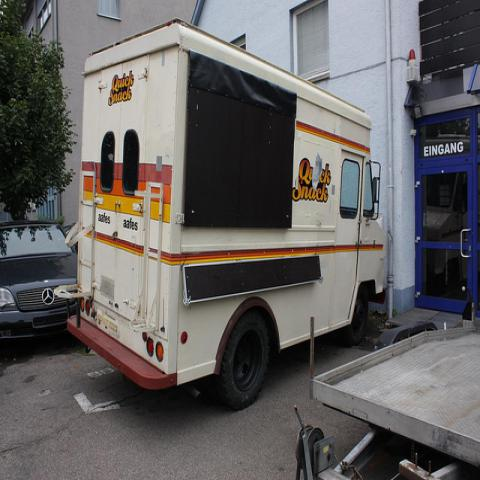car: (0, 222, 80, 338)
truck: (64, 18, 389, 408)
